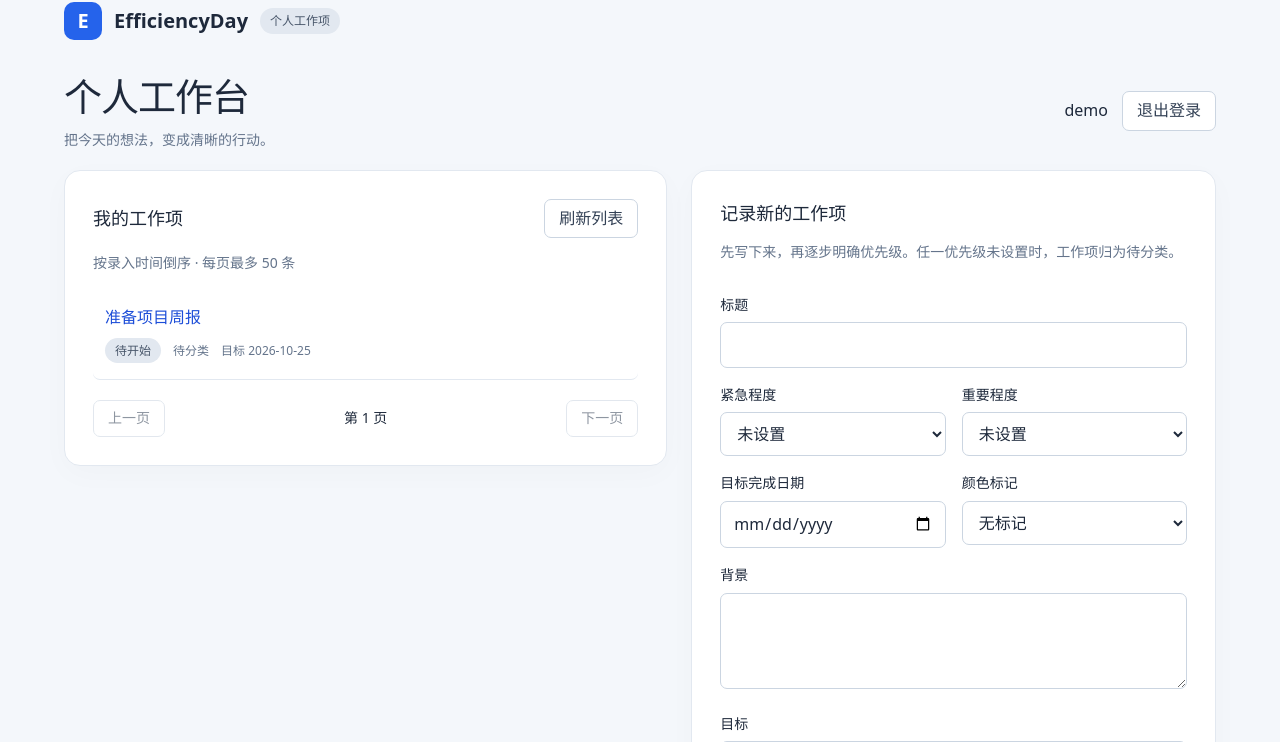
Scenario: hides private data on expiry and restores the same user draft after login
Expected: the button "准备项目周报" is shown, left=105, top=305, right=201, bottom=330
Type "会话失效前的草稿" into the field labelled "标题" at (954, 345), box left=720, top=322, right=1187, bottom=368
(page scrolled)
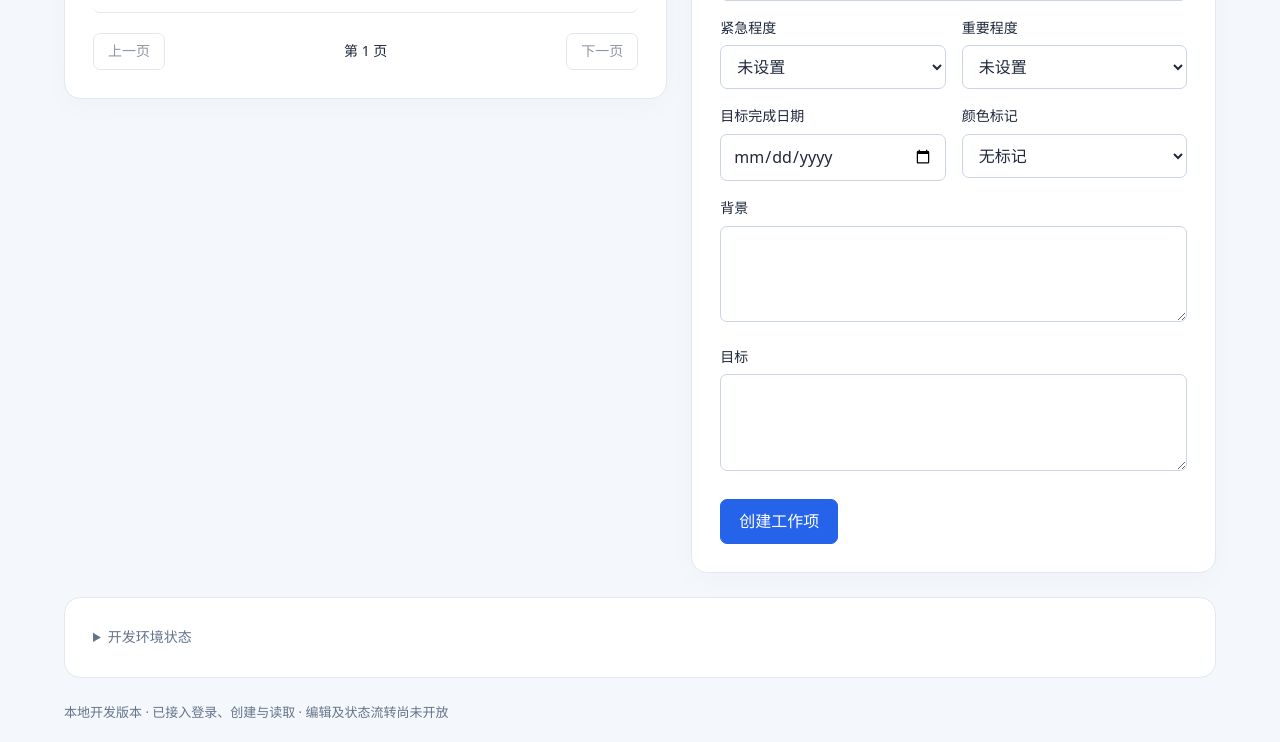
Click the button "创建工作项" at (779, 522), box left=720, top=499, right=838, bottom=544
(page scrolled)
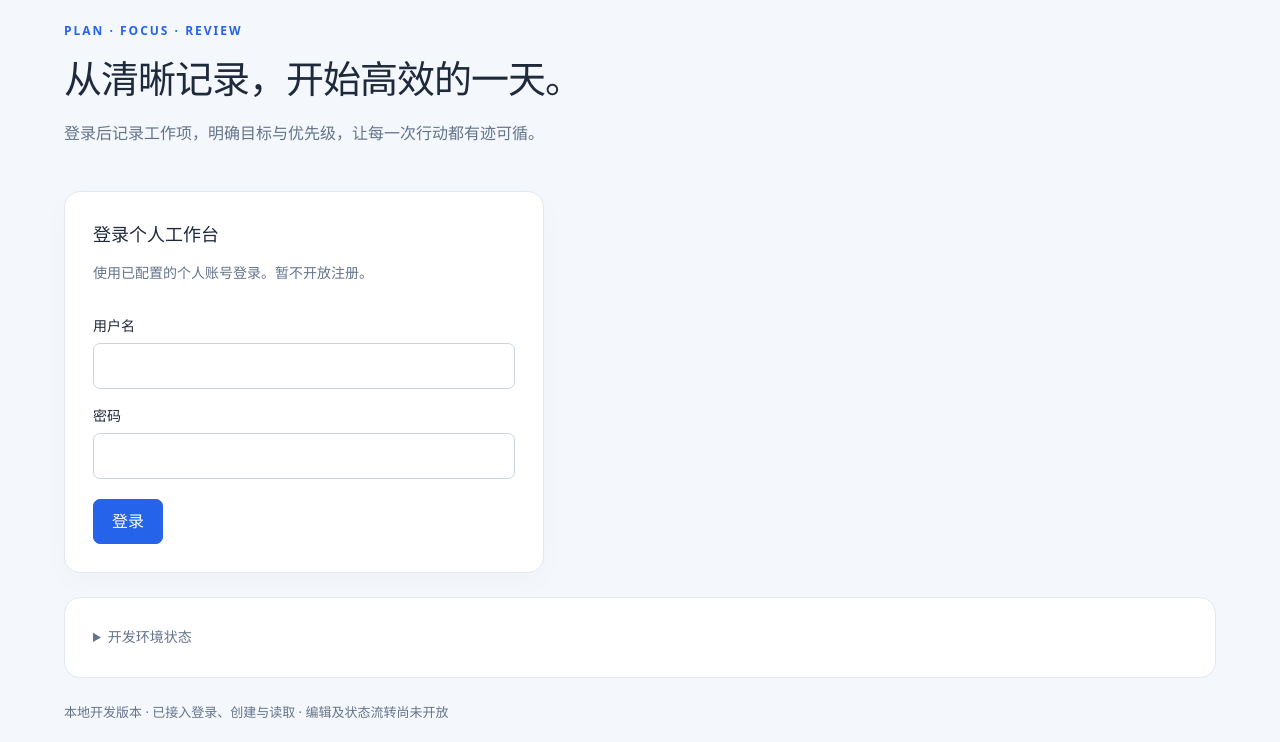
Expected: the button "准备项目周报" is not shown
Expected: the button "登录" is shown, left=93, top=499, right=163, bottom=544
Type "demo" into the field labelled "用户名" at (304, 366), box left=93, top=343, right=515, bottom=389
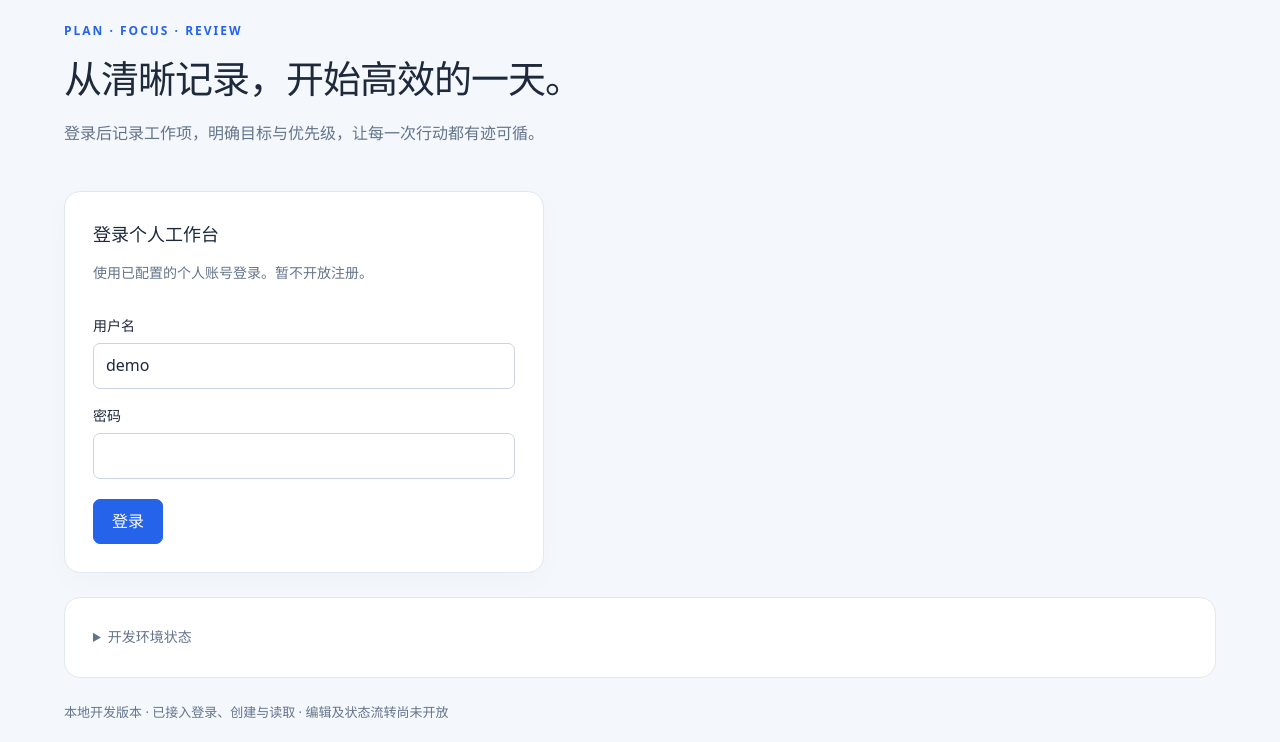
Type "test-password" into the password field labelled "密码" at (304, 456), box left=93, top=433, right=515, bottom=479
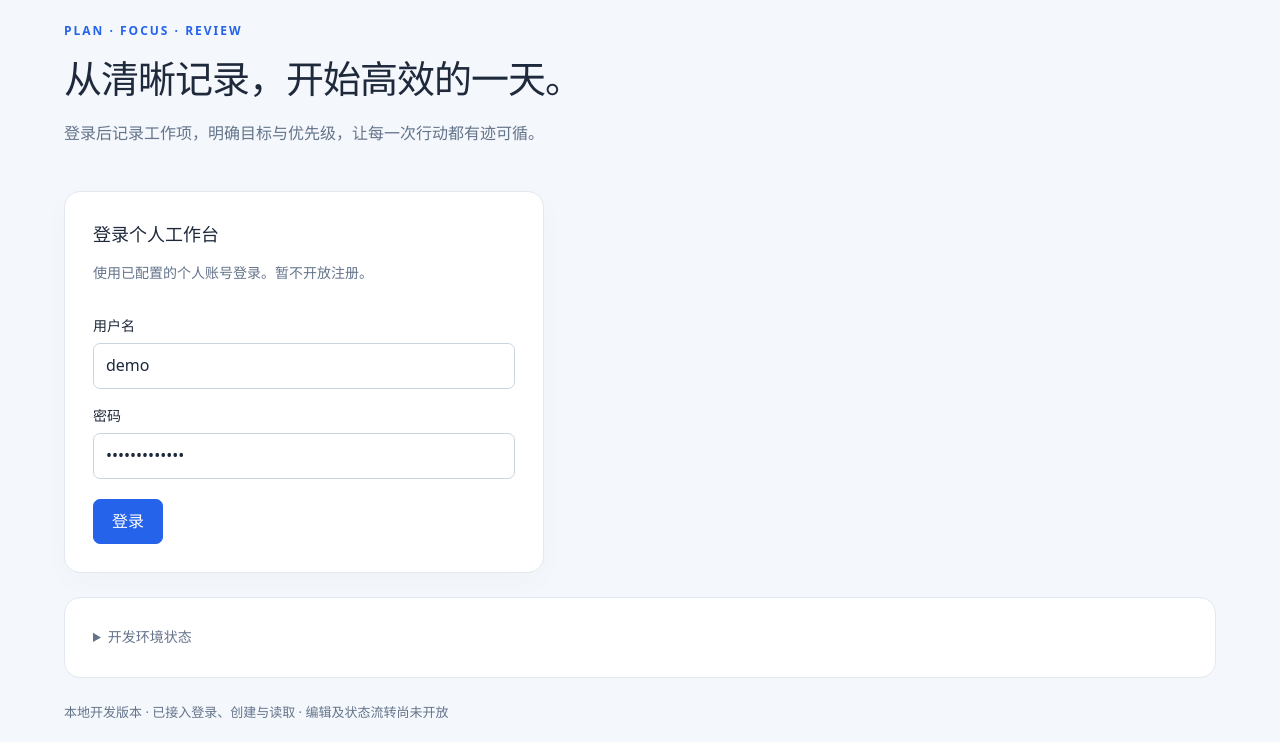
Click the button "登录" at (128, 522), box left=93, top=499, right=163, bottom=544
(page scrolled)
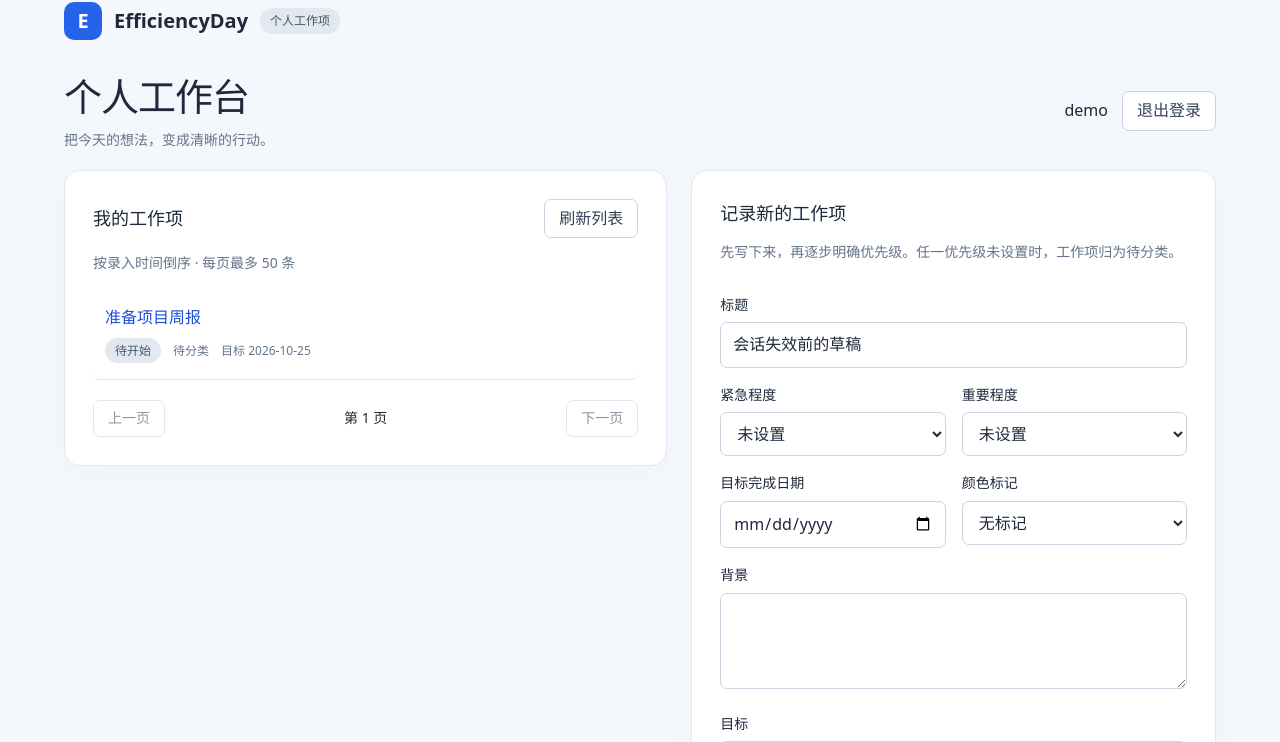
Expected: the button "退出登录" is shown, left=1122, top=91, right=1216, bottom=131
Expected: the field labelled "标题" holds "会话失效前的草稿", left=720, top=322, right=1187, bottom=368
